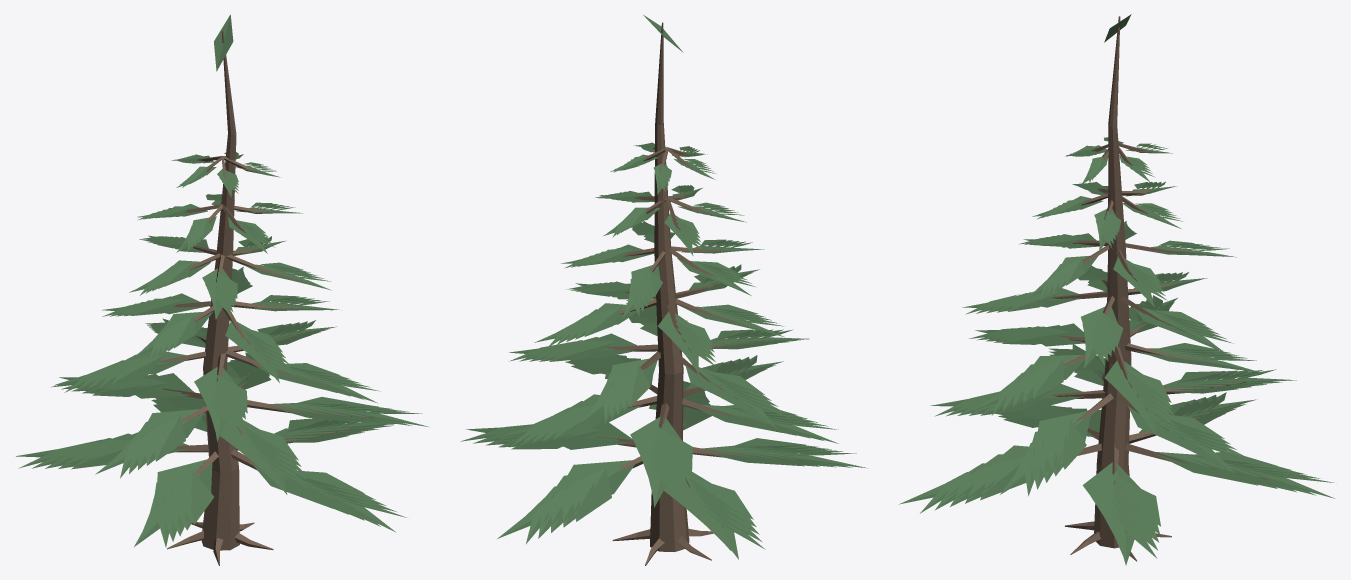
The model's file is hemlock.glb.
3 views of the same model, side by side, from view 1: azimuth 30°, elevation 25°; view 2: azimuth 150°, elevation 25°; view 3: azimuth 270°, elevation 25° (orthographic). The views are drawn at different scales.
Parts seen in each view (by area): view 1: tree_hemlock_LOD0; view 2: tree_hemlock_LOD0; view 3: tree_hemlock_LOD0.
Boxes of the visible parts, x1,y1,x2,y2 form: tree_hemlock_LOD0: [16, 14, 428, 565]; tree_hemlock_LOD0: [460, 15, 867, 565]; tree_hemlock_LOD0: [899, 14, 1334, 565].
Size of the model in its own units: 9.5 by 13.75 by 10.21.
